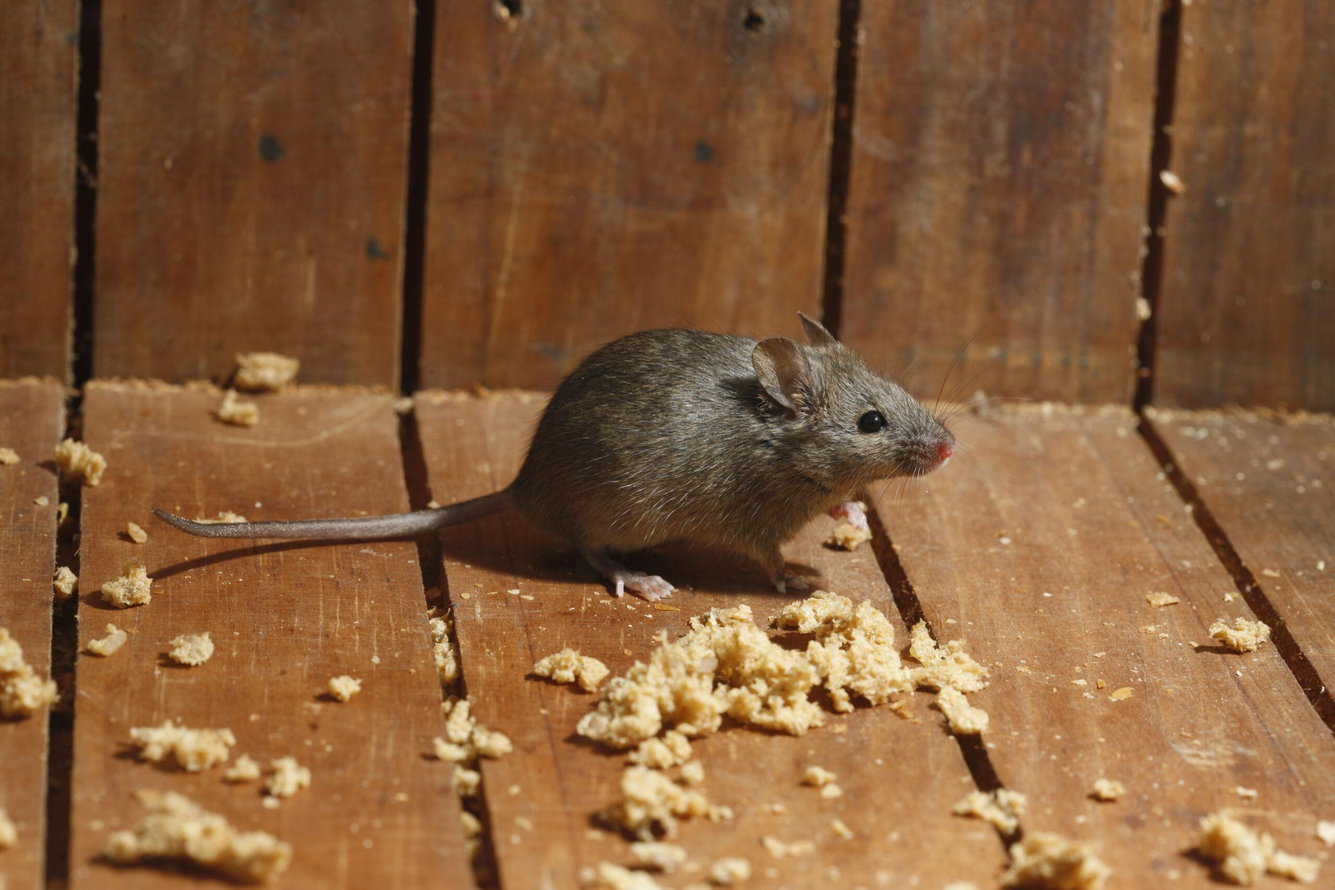rat: (152, 317, 955, 595)
